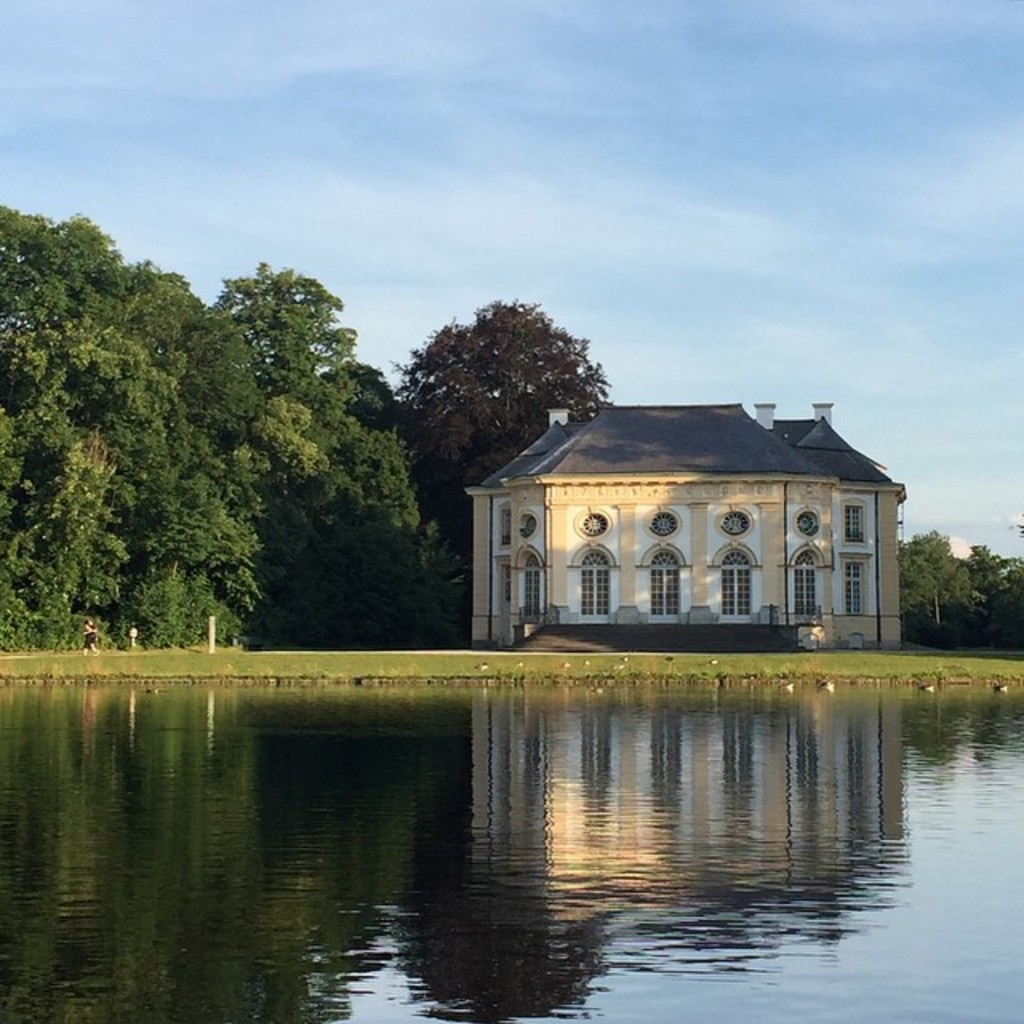Tree: (0, 199, 615, 656), (901, 518, 1024, 642)
